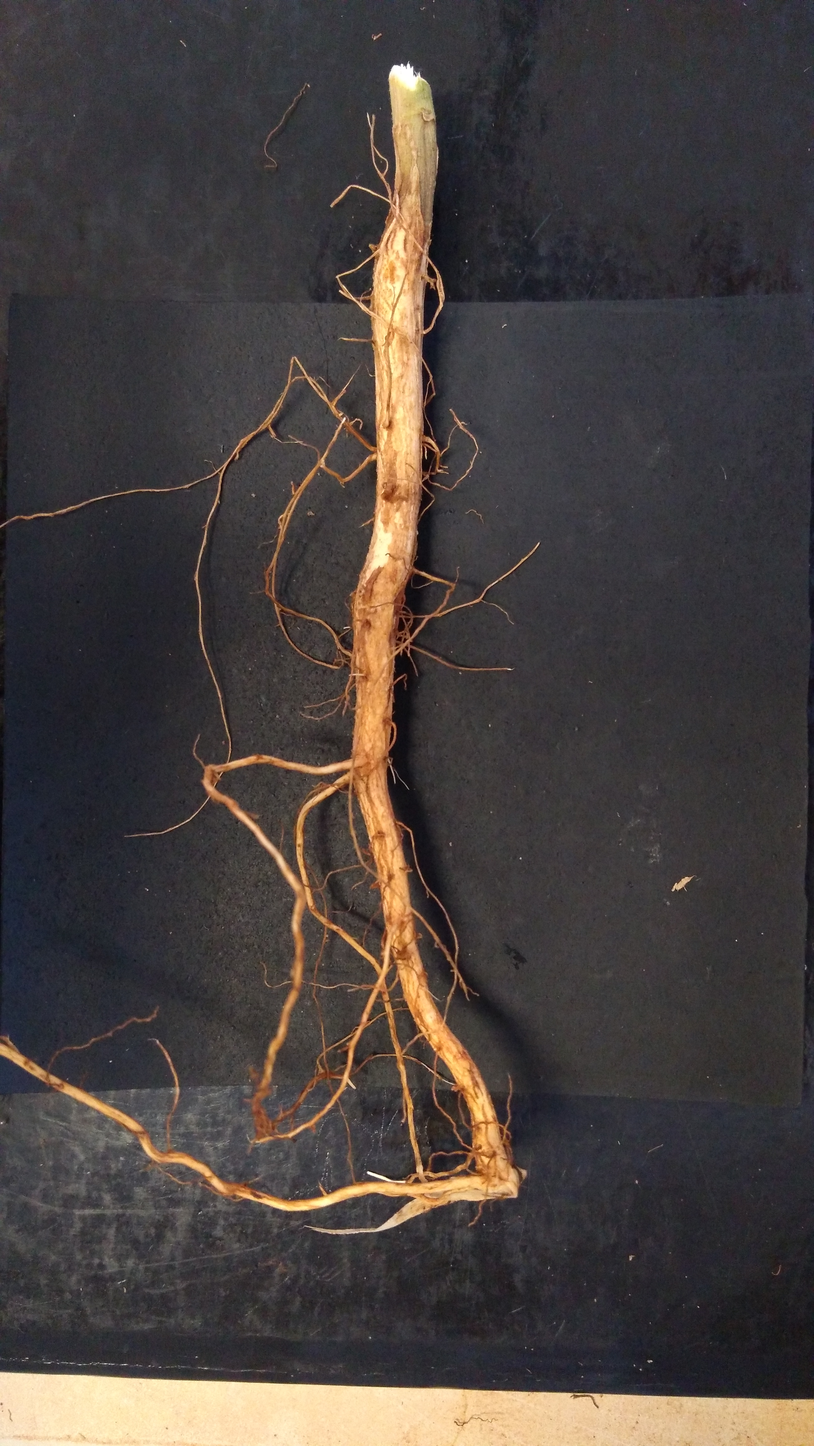nodule: (312, 781, 329, 794), (421, 111, 435, 122), (450, 1085, 464, 1093), (368, 243, 377, 253), (369, 882, 380, 889), (349, 589, 358, 597), (320, 459, 326, 467)
